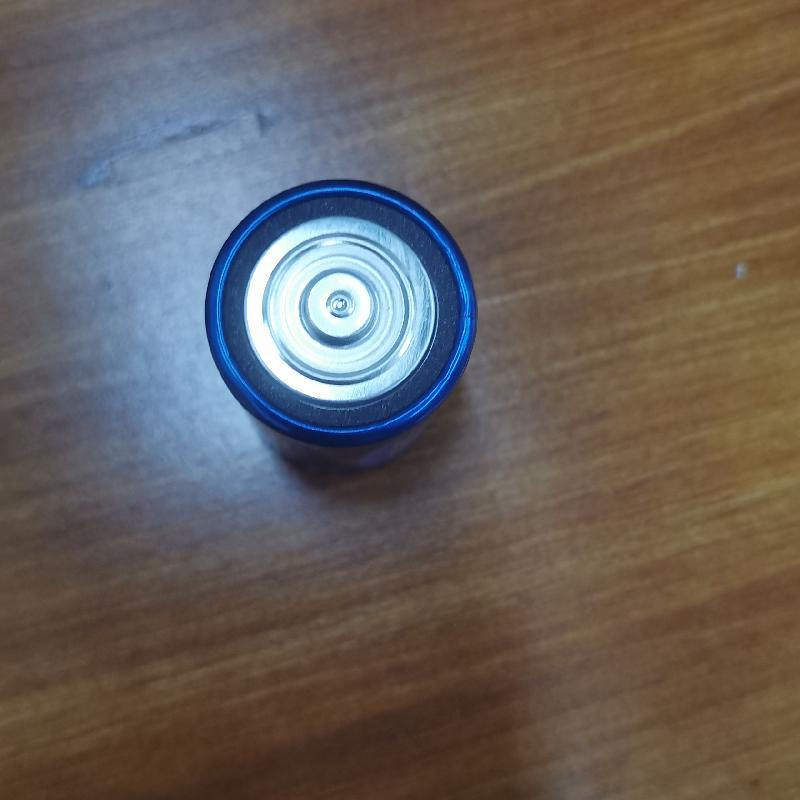battery: (198, 170, 480, 463)
